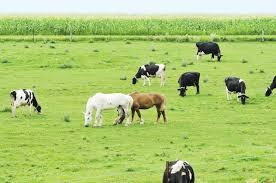cow: (9, 89, 43, 118), (131, 62, 168, 87), (223, 77, 250, 105), (163, 160, 195, 183), (195, 38, 224, 62), (177, 71, 201, 97), (265, 76, 276, 97)
